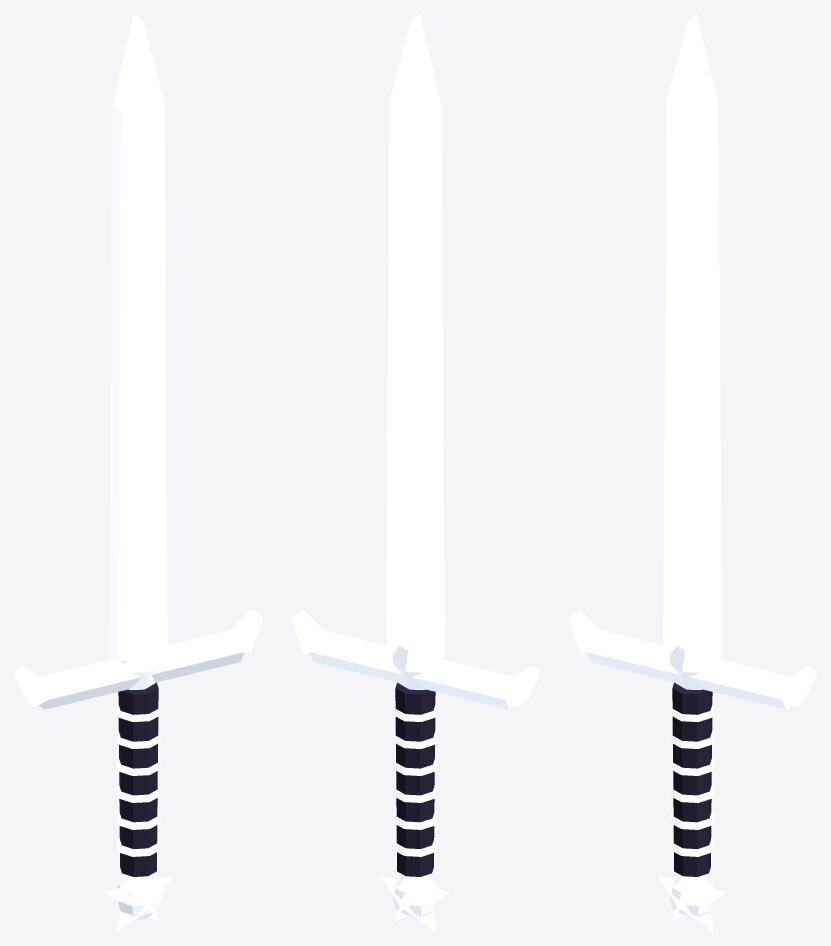
File: honored_blade.glb
3 renders of one model, left to right at view 1: azimuth 30°, elevation 25°; view 2: azimuth 150°, elevation 25°; view 3: azimuth 330°, elevation 25°, orthographic.
Visible parts, largest first — view 1: honored_blade; view 2: honored_blade; view 3: honored_blade.
Part boxes in pixels (x1,y1,x2,y2): honored_blade: [14, 14, 262, 931]; honored_blade: [291, 14, 539, 931]; honored_blade: [568, 14, 816, 931].
Size of the model in its own units: 0.4762 by 1.69 by 0.1.
